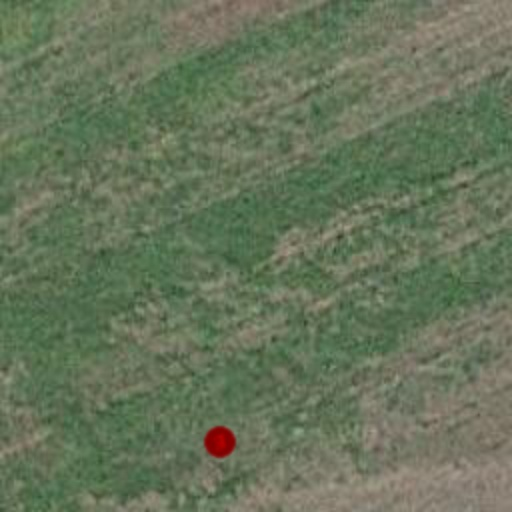circle: (198, 420, 242, 464)
